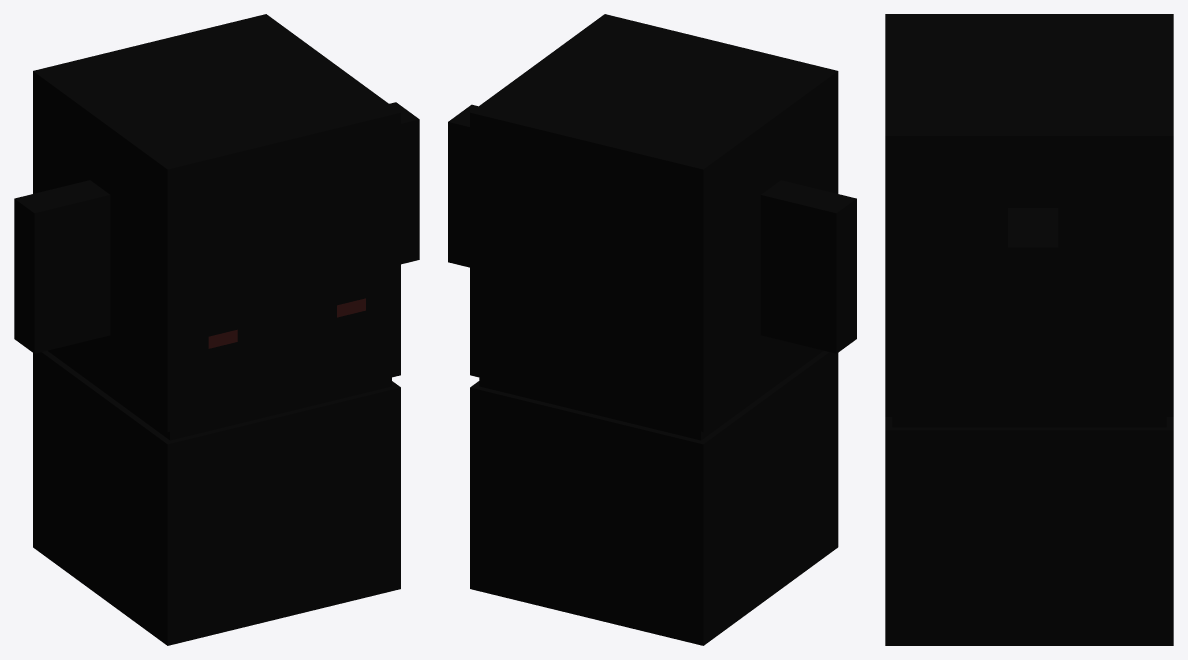
Rendered from monkey.obj.
3 views of the same model, side by side, from view 1: azimuth 30°, elevation 25°; view 2: azimuth 150°, elevation 25°; view 3: azimuth 270°, elevation 25° (orthographic). The views are drawn at different scales.
Visible parts, largest first — view 1: monkey; view 2: monkey; view 3: monkey.
Part boxes in pixels (x1,y1,x2,y2): monkey: (14, 14, 419, 645); monkey: (448, 14, 856, 645); monkey: (885, 14, 1173, 645).
Size of the model in its own units: 6.6 by 7.8 by 4.
